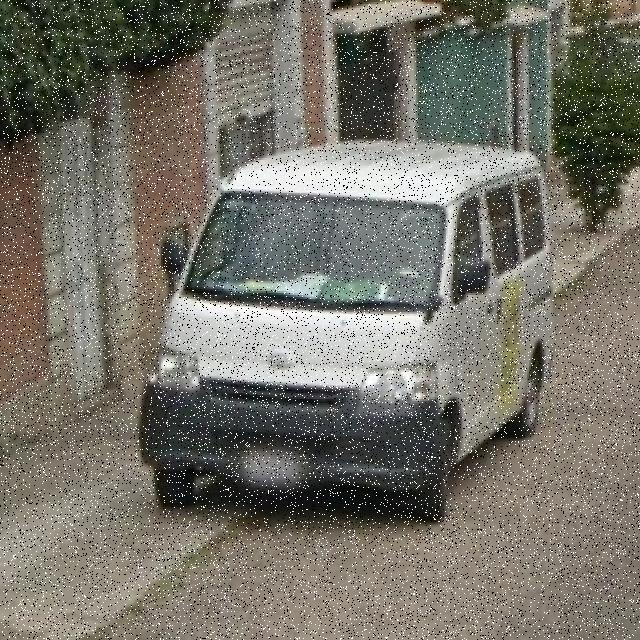cars: (153, 141, 557, 514)
